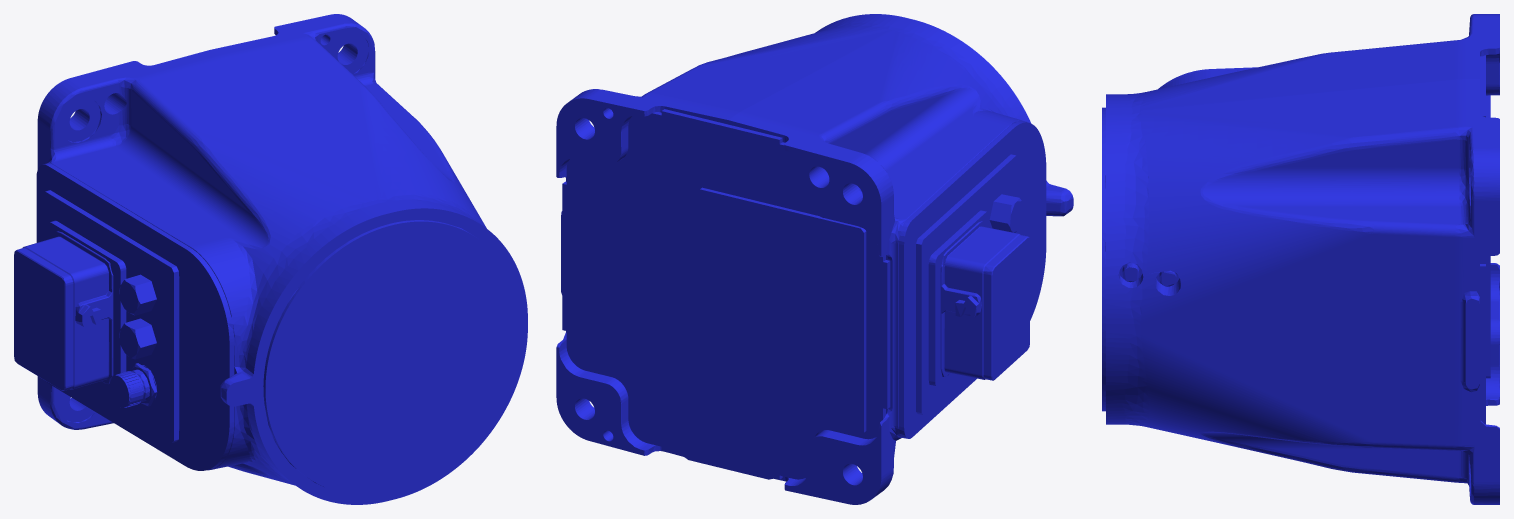
File: BaseLink.glb
The picture shows the model from 3 angles, left to right: view 1: azimuth 30°, elevation 25°; view 2: azimuth 150°, elevation 25°; view 3: azimuth 270°, elevation 25°; orthographic projection. The views are drawn at different scales.
Parts seen in each view (by area): view 1: /BaseLink/BaseLink-mesh/0; view 2: /BaseLink/BaseLink-mesh/0; view 3: /BaseLink/BaseLink-mesh/0.
Part boxes in pixels (x1,y1,x2,y2): /BaseLink/BaseLink-mesh/0: (14, 14, 527, 504); /BaseLink/BaseLink-mesh/0: (556, 14, 1073, 504); /BaseLink/BaseLink-mesh/0: (1102, 14, 1499, 504).
Bounding box in the file's own units: 0.2373 × 0.1995 × 0.1991.
